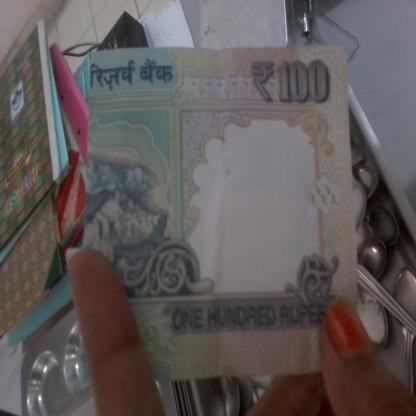Old100Back: (84, 43, 358, 381)
